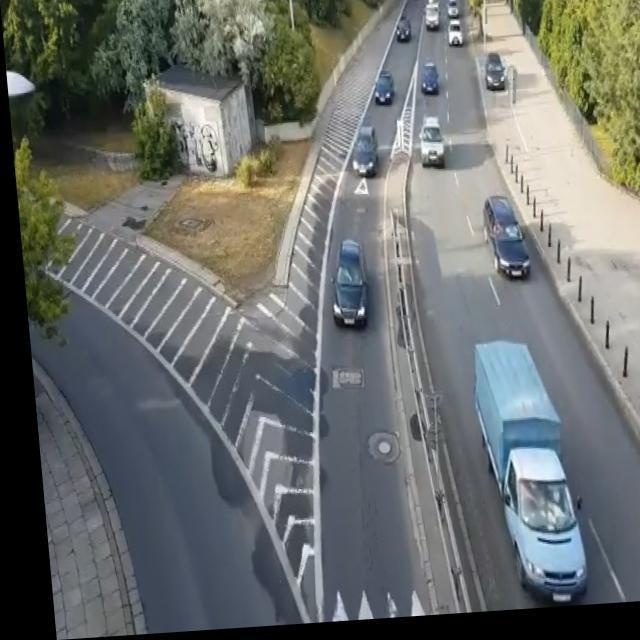Car: (474, 198, 530, 299), (328, 233, 368, 339), (411, 115, 446, 177), (344, 122, 378, 184), (372, 65, 402, 116), (421, 61, 452, 106), (482, 56, 514, 95), (394, 15, 418, 50), (444, 18, 464, 54), (424, 1, 440, 34), (443, 0, 461, 19)
Truck: (457, 332, 590, 618)
